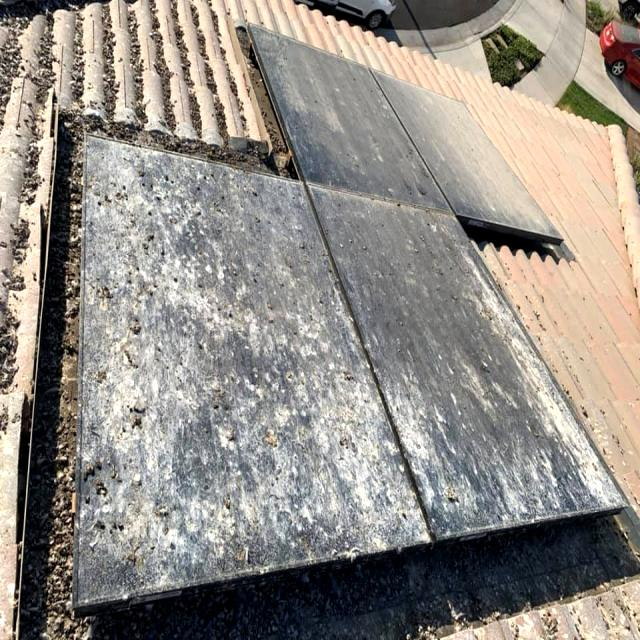bird: (82, 436, 166, 588), (200, 364, 238, 474), (194, 266, 252, 324), (208, 488, 250, 566), (180, 166, 232, 221), (116, 402, 172, 444), (115, 295, 158, 348), (124, 230, 170, 279), (329, 424, 366, 480), (434, 476, 476, 523), (258, 420, 292, 478), (80, 177, 132, 214), (78, 365, 120, 403), (341, 347, 367, 405), (474, 331, 494, 396)
